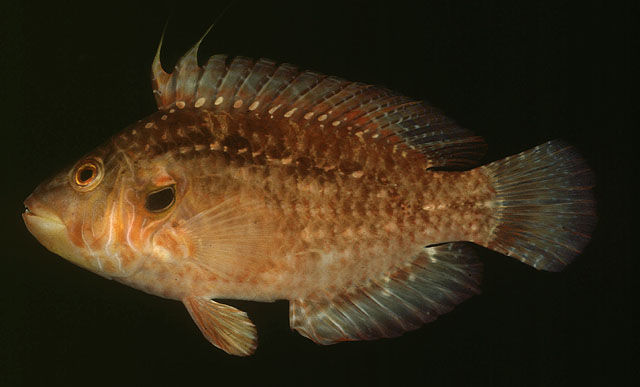fish: (20, 25, 595, 357)
